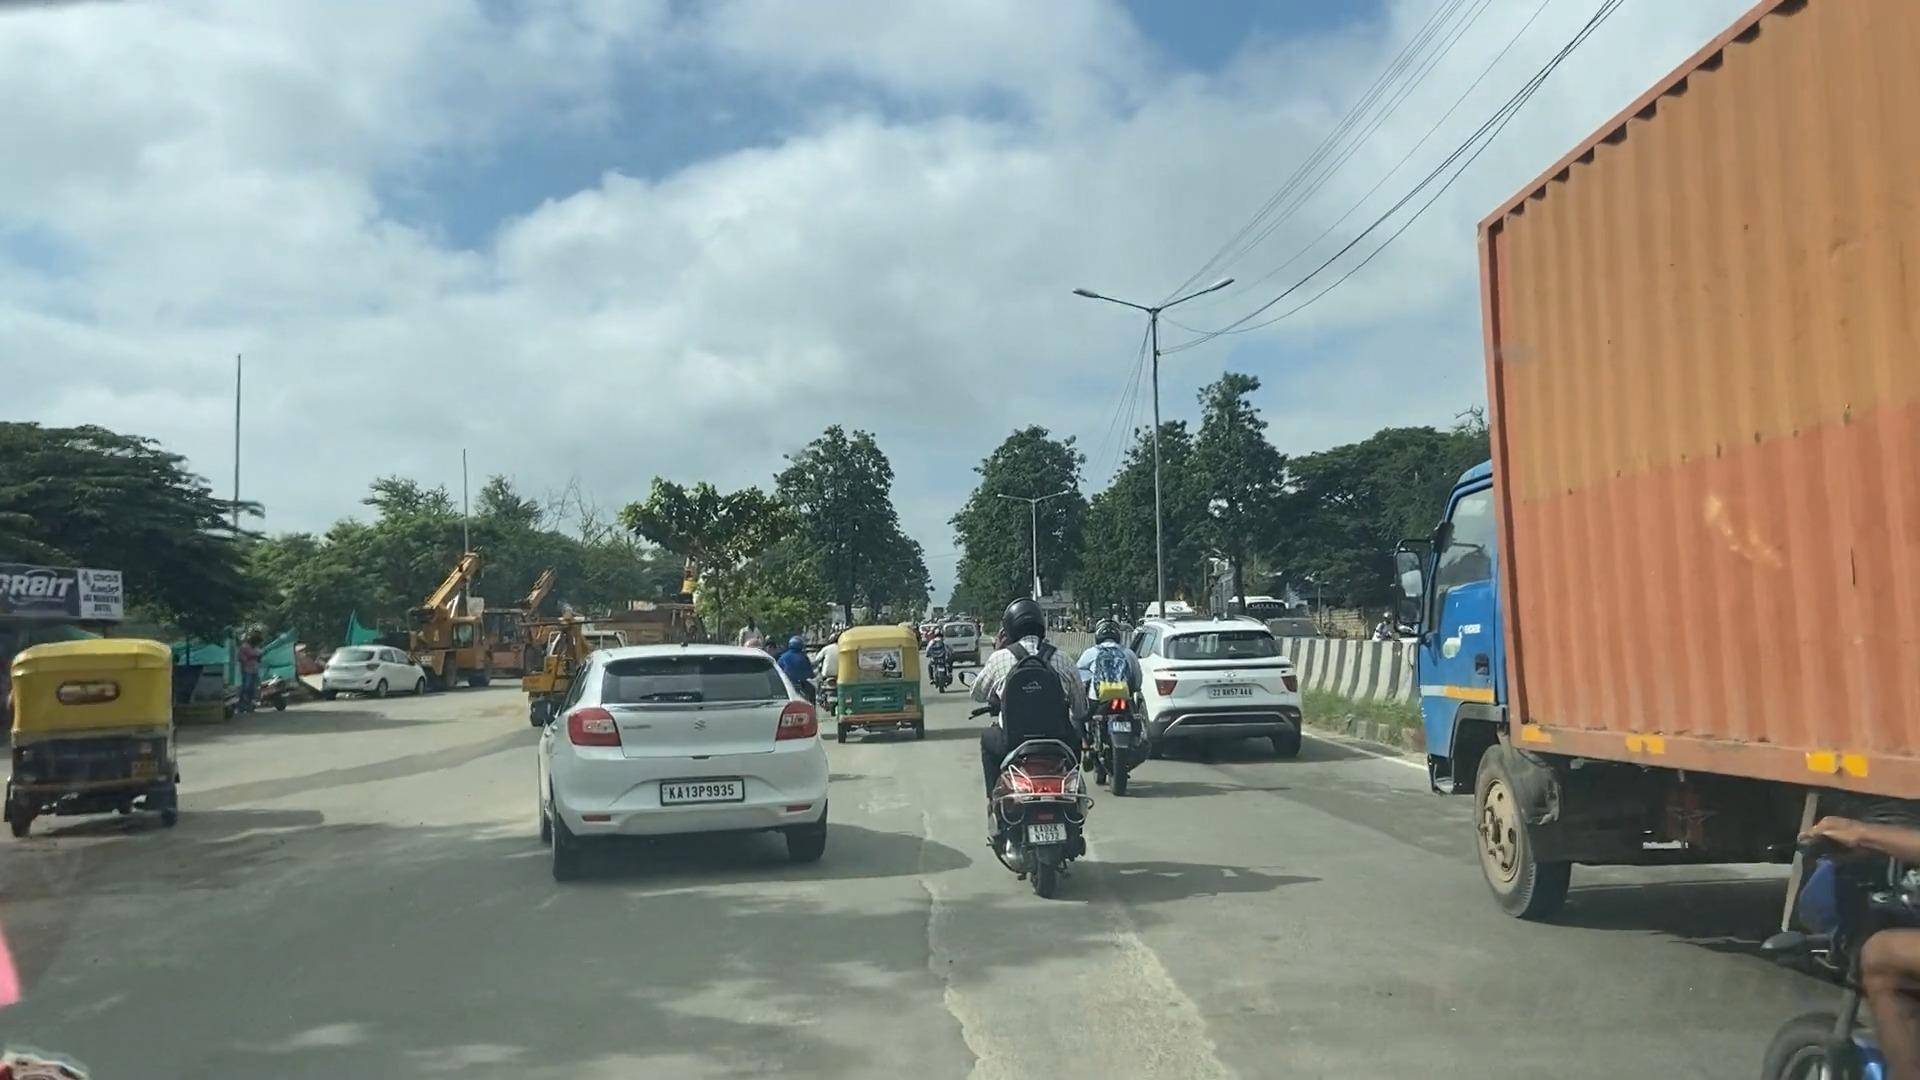LMV: (556, 642, 847, 857), (964, 597, 1075, 865), (15, 647, 179, 808), (1158, 622, 1291, 757), (848, 632, 922, 736), (1096, 630, 1142, 781)
RoadDamages: (916, 932, 1216, 1051)
